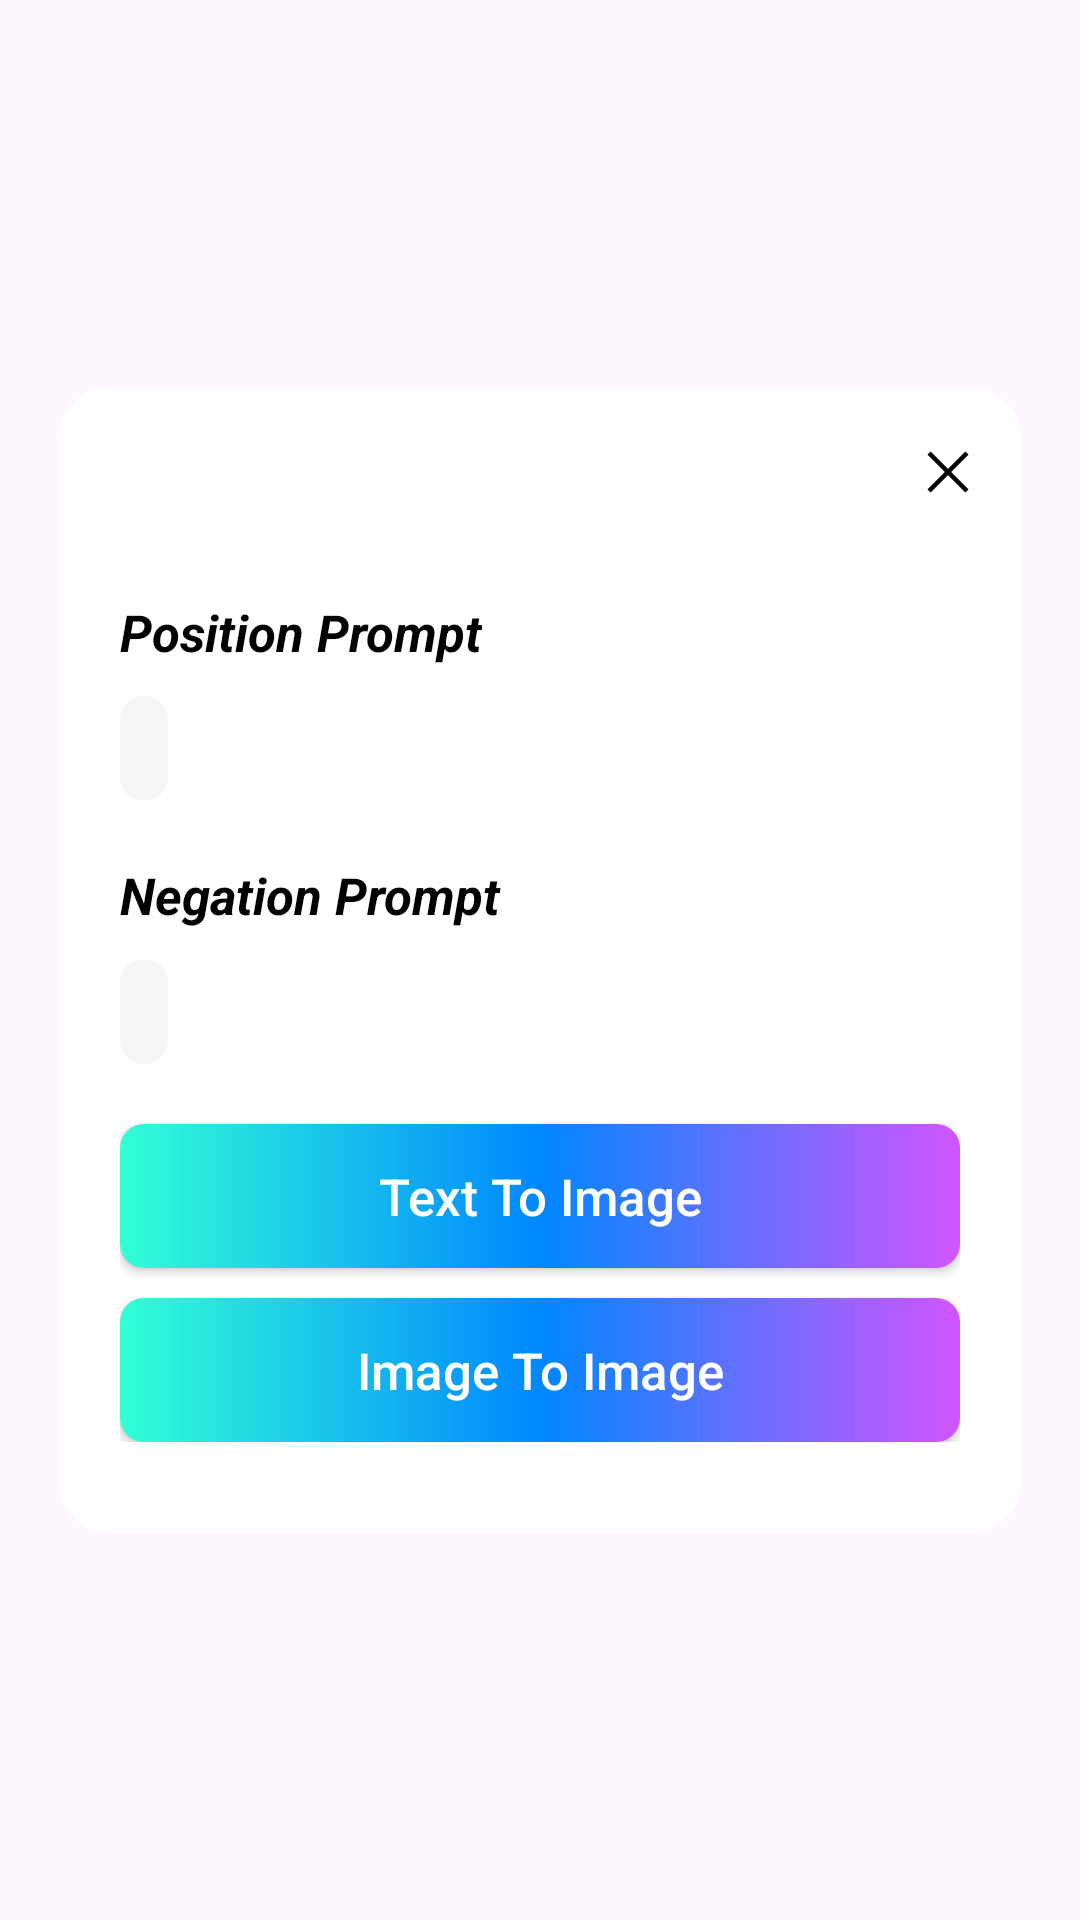

Icon bounding boxes for this 1080 x 1920 phone screenshot, format box=[x1, y1, x2, y2]:
close: box=[927, 451, 969, 493]
